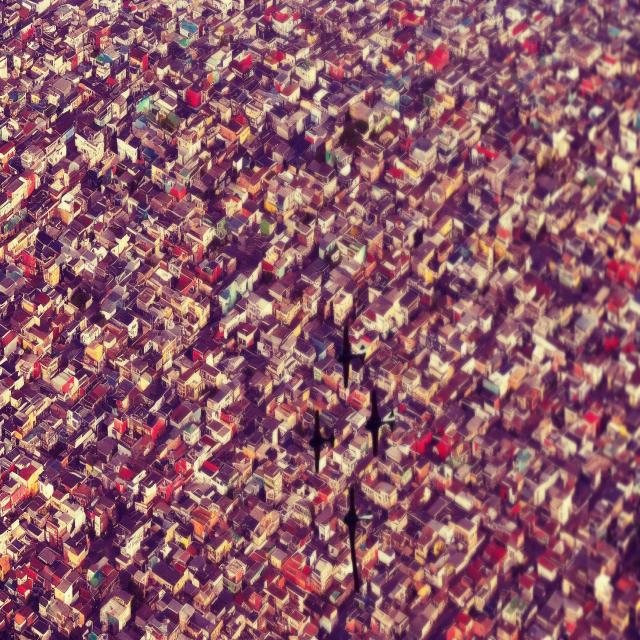airplane: (342, 485, 372, 593), (335, 322, 366, 388), (365, 388, 394, 456), (308, 410, 334, 474)
